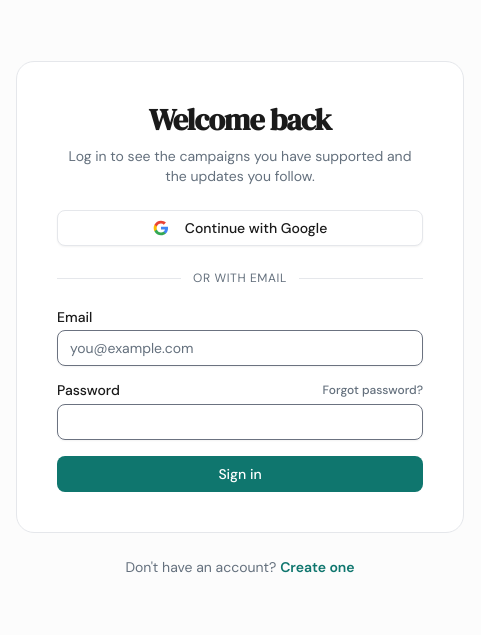
it: the forced-reset path keeps its own message › tells a legacy-hash user to reset, with a link
Type "someone@example.com" into the field labelled "Email" at (240, 348), box [57,330,423,366]
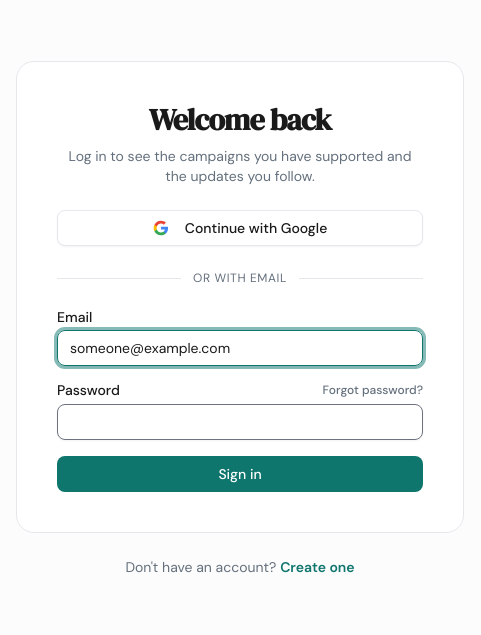
Type "whatever1" into the password field labelled "Password" at (240, 422), box [57,404,423,440]
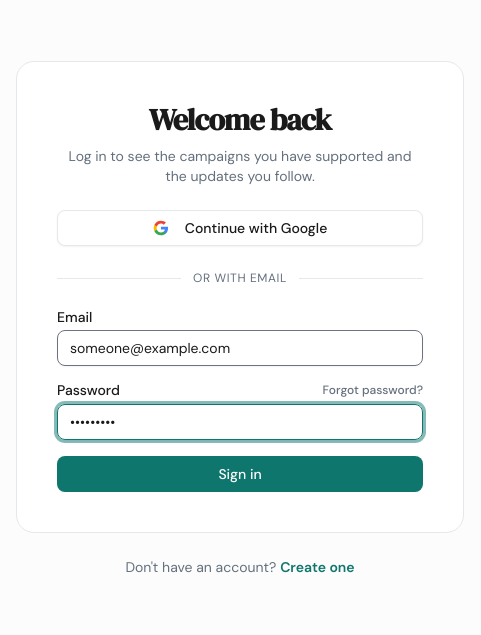
Click the button "Sign in" at (240, 474), box [57,456,423,492]
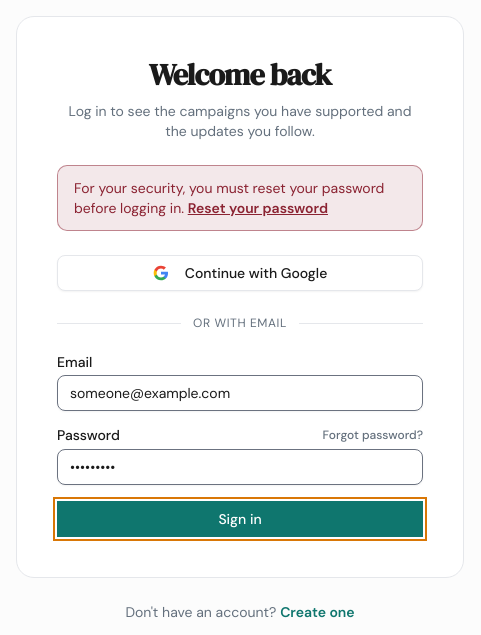
Check: the message shows "you must reset your password before logging in", box [74,179,384,217]
